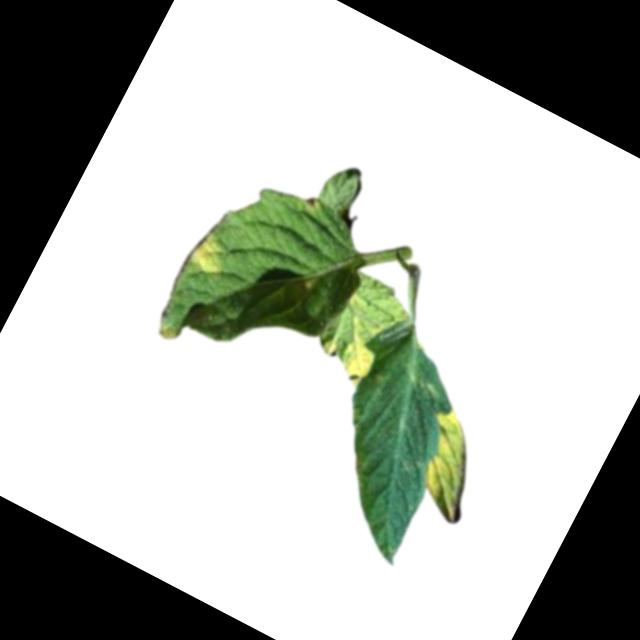Leaf_Mold: (400, 405, 503, 525), (311, 326, 378, 388), (181, 226, 234, 280)
